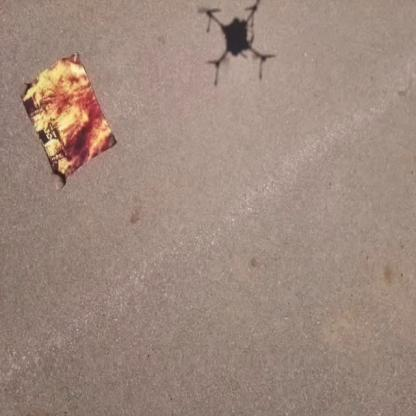fire-poster: (19, 50, 118, 190)
